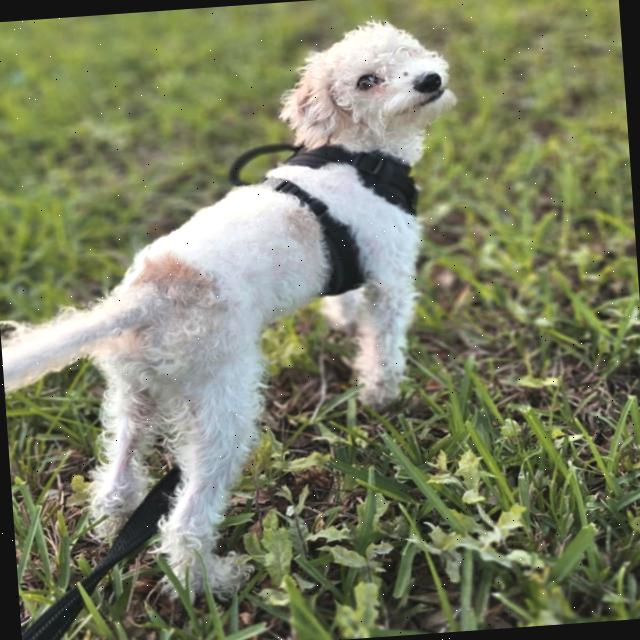Poodle_dog: (264, 3, 468, 184)
